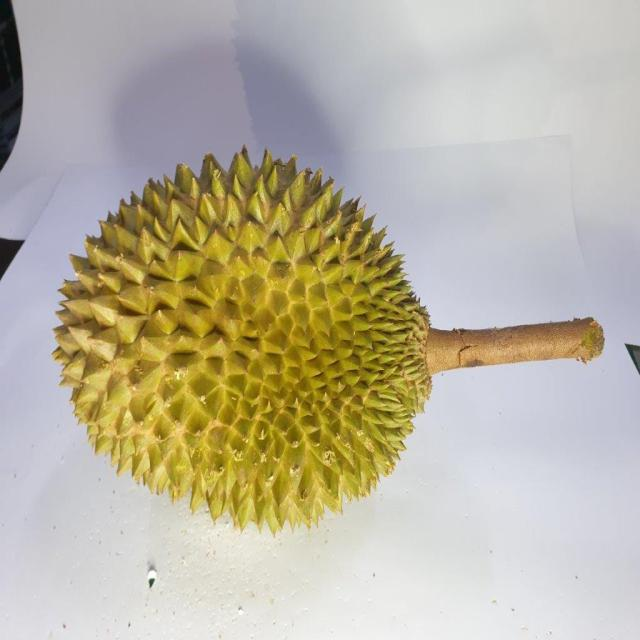immature: (52, 152, 436, 534)
